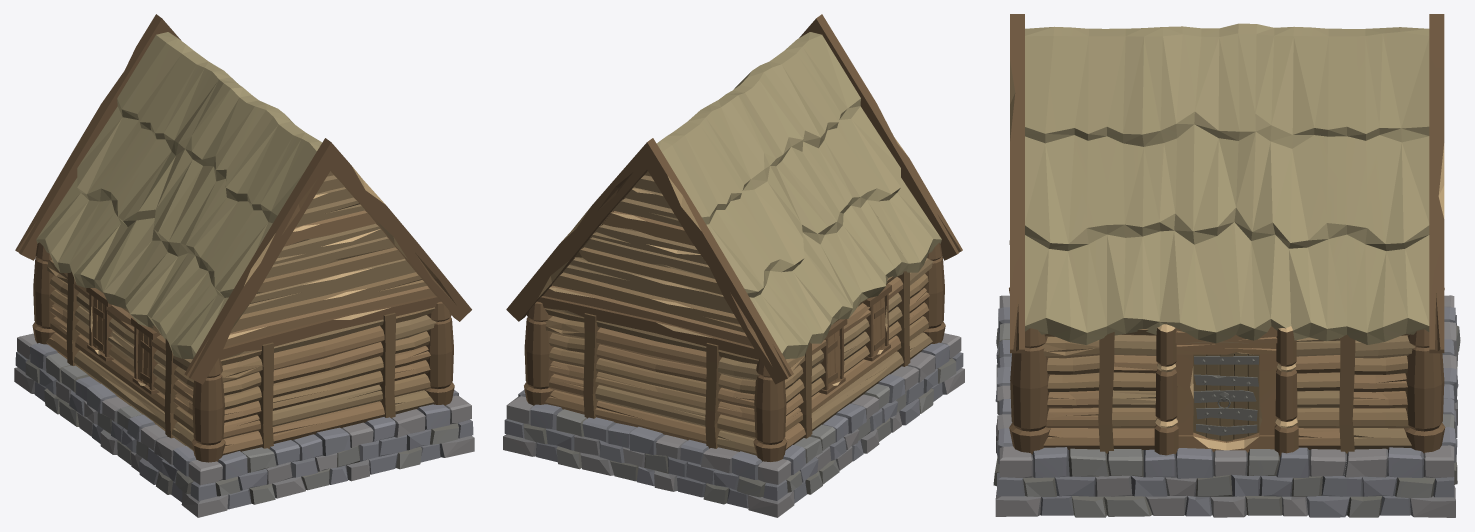
Rendered from rpghouse4.obj.
3 renders of one model, left to right at view 1: azimuth 30°, elevation 25°; view 2: azimuth 150°, elevation 25°; view 3: azimuth 270°, elevation 25°, orthographic. The views are drawn at different scales.
Visible parts, largest first — view 1: rpgpp_lt_building_04; view 2: rpgpp_lt_building_04; view 3: rpgpp_lt_building_04.
Part boxes in pixels (x1,y1,x2,y2): rpgpp_lt_building_04: [14, 14, 474, 517]; rpgpp_lt_building_04: [503, 14, 964, 517]; rpgpp_lt_building_04: [993, 14, 1460, 517].
Size of the model in its own units: 8.41 by 9.65 by 9.73.
1 material, 1 textured.
